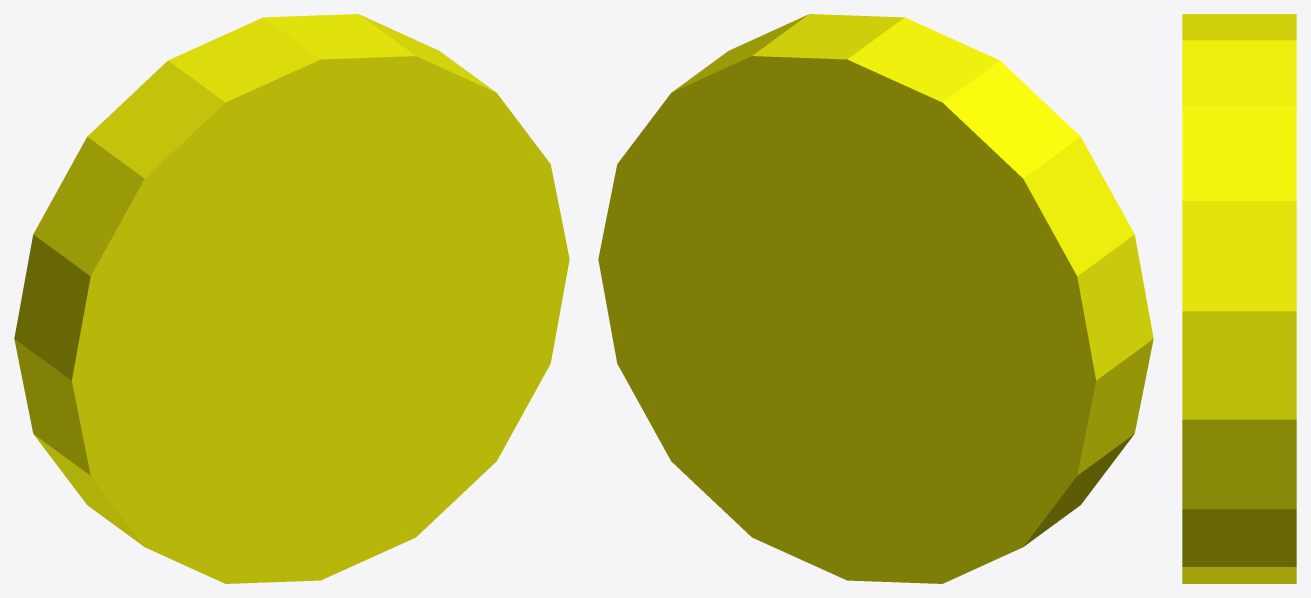
File: normal-wheel34aaeda9.glb
3 renders of one model, left to right at view 1: azimuth 30°, elevation 25°; view 2: azimuth 150°, elevation 25°; view 3: azimuth 270°, elevation 25°, orthographic.
Visible parts, largest first — view 1: normalWheel; view 2: normalWheel; view 3: normalWheel.
Boxes of the visible parts, x1=… form: normalWheel: x1=14, y1=14, x2=569, y2=583; normalWheel: x1=598, y1=14, x2=1153, y2=583; normalWheel: x1=1182, y1=14, x2=1296, y2=583.
Size of the model in its own units: 9 by 9 by 1.8.
1 material, 1 textured.
